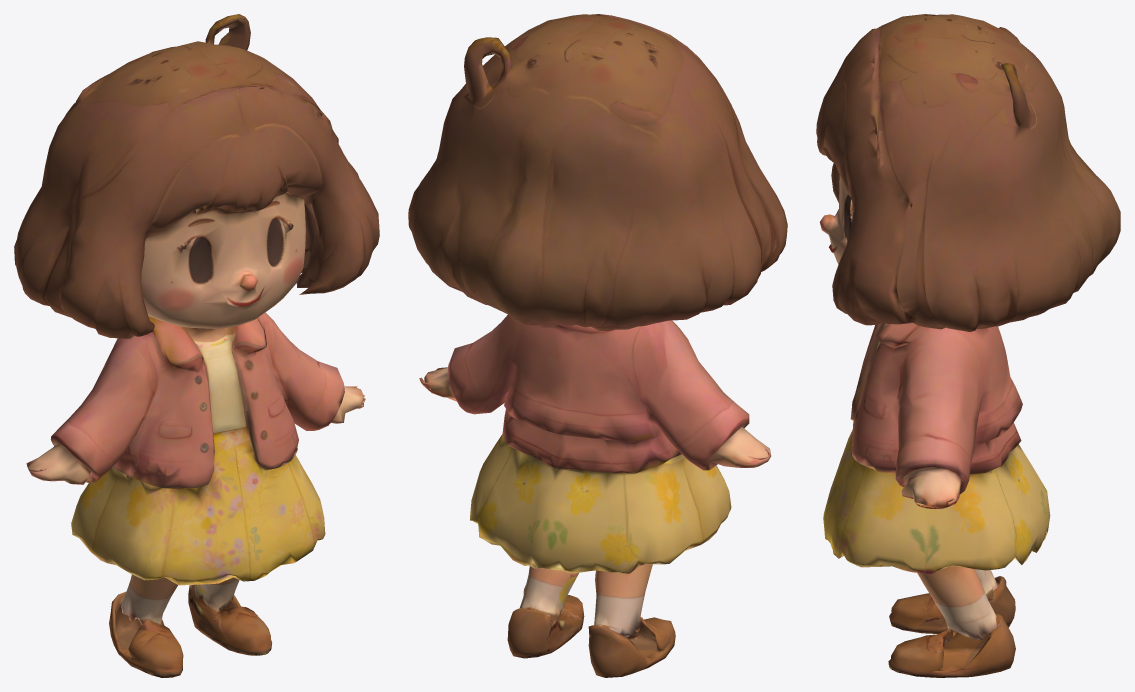
The model's file is female.glb.
The picture shows the model from 3 angles, left to right: view 1: azimuth 30°, elevation 25°; view 2: azimuth 150°, elevation 25°; view 3: azimuth 270°, elevation 25°; orthographic projection. The views are drawn at different scales.
Size of the model in its own units: 1.18 by 2 by 0.8941.
Materials: 1 (1 with a texture image).
